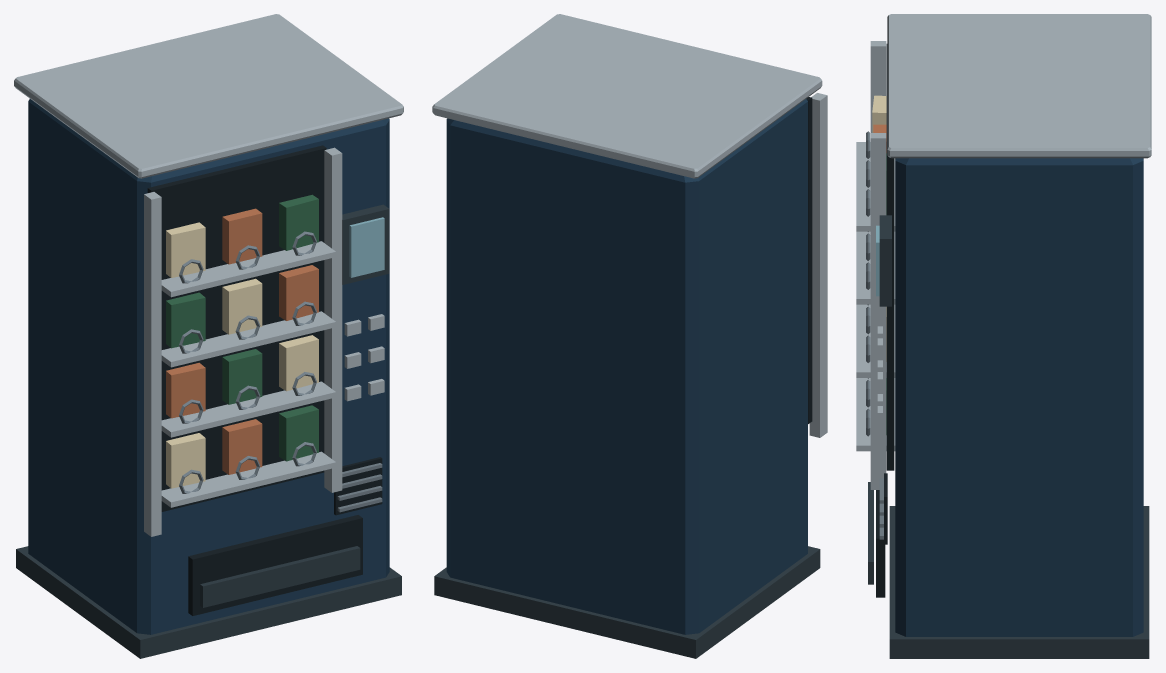
Rendered from b10_spiral_snack_vending_machine.glb.
The picture shows the model from 3 angles, left to right: view 1: azimuth 30°, elevation 25°; view 2: azimuth 150°, elevation 25°; view 3: azimuth 270°, elevation 25°; orthographic projection. The views are drawn at different scales.
Visible parts, largest first — view 1: b10_spiral_snack_vending_machine; view 2: b10_spiral_snack_vending_machine; view 3: b10_spiral_snack_vending_machine.
Boxes of the visible parts, box(x1,y1,x2,y2) form: b10_spiral_snack_vending_machine: box(14, 14, 403, 658); b10_spiral_snack_vending_machine: box(432, 14, 827, 658); b10_spiral_snack_vending_machine: box(856, 14, 1151, 658).
Bounding box in the file's own units: 1.03 × 1.82 × 0.95.
